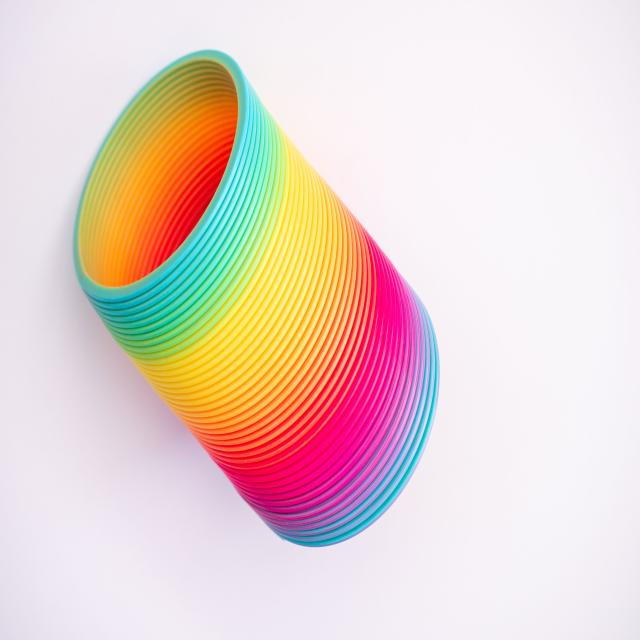Plastic: (72, 50, 443, 552)
